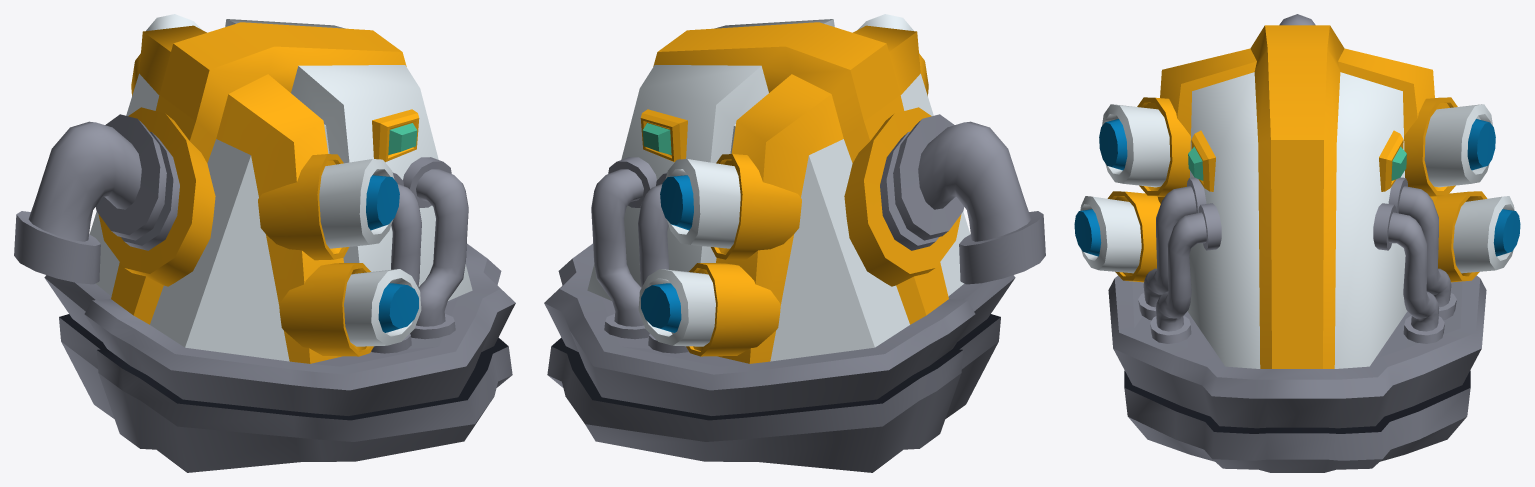
The model's file is PROP_OxigenTank_01.FBX.
The picture shows the model from 3 angles, left to right: view 1: azimuth 30°, elevation 25°; view 2: azimuth 150°, elevation 25°; view 3: azimuth 270°, elevation 25°; orthographic projection. The views are drawn at different scales.
Parts seen in each view (by area): view 1: Box001; view 2: Box001; view 3: Box001.
Part boxes in pixels (x1,y1,x2,y2): Box001: (14,14,515,472); Box001: (544,14,1045,472); Box001: (1074,14,1520,472).
Size of the model in its own units: 22.32 by 20.7 by 17.26.
